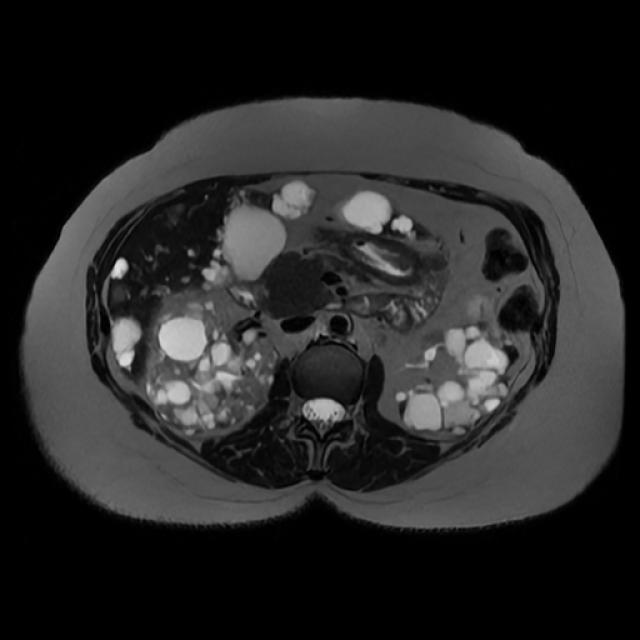sag: (141, 260, 279, 435)
sol: (393, 290, 521, 440)
